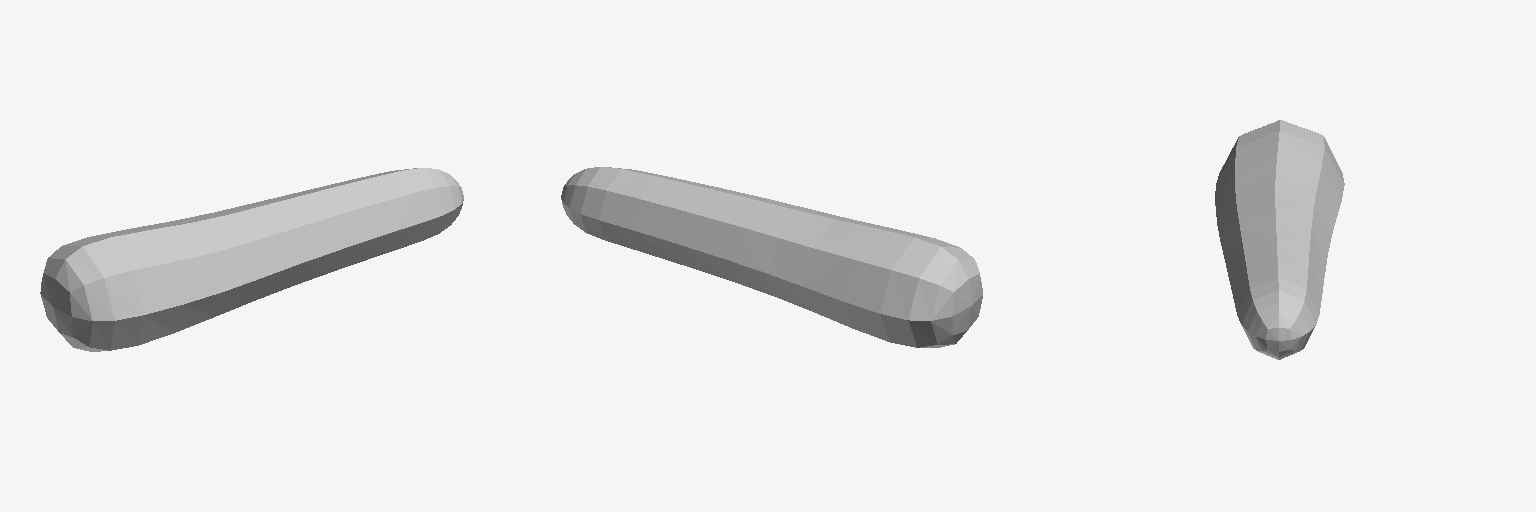
The model's file is Harley_Brazo_L_1.obj.
3 views of the same model, side by side, from view 1: azimuth 30°, elevation 25°; view 2: azimuth 150°, elevation 25°; view 3: azimuth 270°, elevation 25° (orthographic).
Parts seen in each view (by area): view 1: Harley_Brazo_L_1; view 2: Harley_Brazo_L_1; view 3: Harley_Brazo_L_1.
Part boxes in pixels (bbox=[...]): Harley_Brazo_L_1: bbox=[40, 168, 463, 351]; Harley_Brazo_L_1: bbox=[561, 167, 982, 347]; Harley_Brazo_L_1: bbox=[1215, 120, 1344, 359].
Bounding box in the file's own units: 0.3064 × 0.0781 × 0.0844.